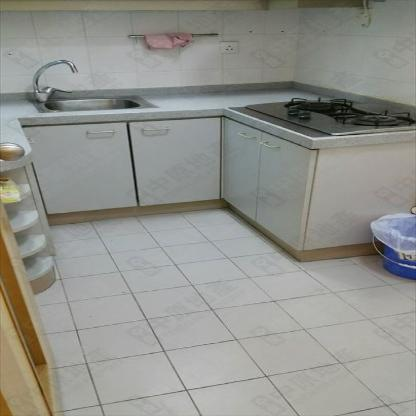Cupboard: (31, 115, 312, 252)
Faucet: (31, 59, 84, 91)
Sink: (35, 94, 160, 114)
Stove: (230, 95, 414, 139)
